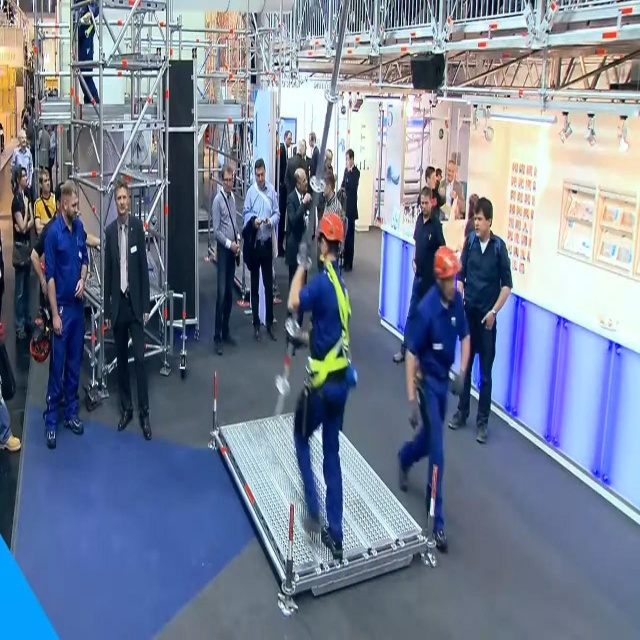Arnes_seguridad: (300, 268, 358, 415)
